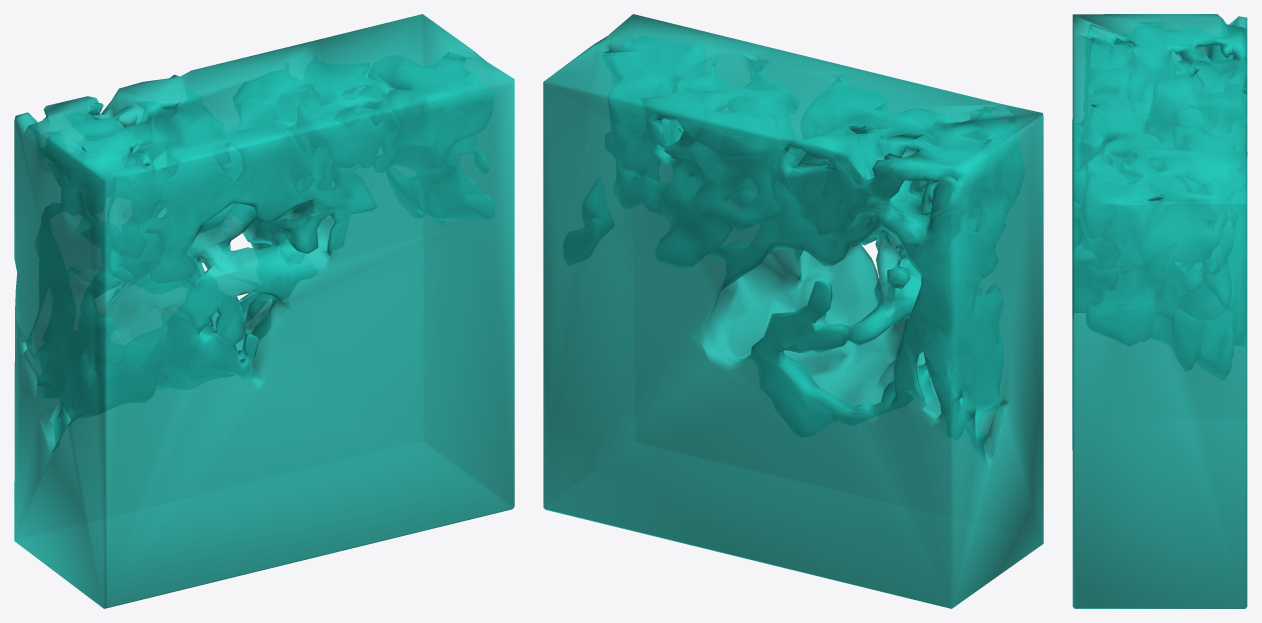
3 renders of one model, left to right at view 1: azimuth 30°, elevation 25°; view 2: azimuth 150°, elevation 25°; view 3: azimuth 270°, elevation 25°, orthographic. The views are drawn at different scales.
Visible parts, largest first — view 1: Liquid_Domain; view 2: Liquid_Domain; view 3: Liquid_Domain.
Boxes of the visible parts, x1=… form: Liquid_Domain: x1=14, y1=14, x2=514, y2=608; Liquid_Domain: x1=543, y1=14, x2=1043, y2=608; Liquid_Domain: x1=1072, y1=14, x2=1247, y2=608.
Bounding box in the file's own units: 884 × 884 × 345.
